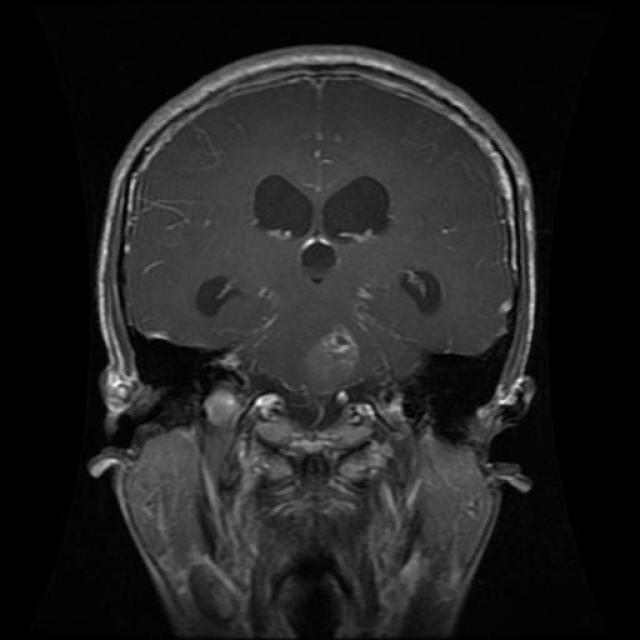glioma: (243, 159, 402, 270)
